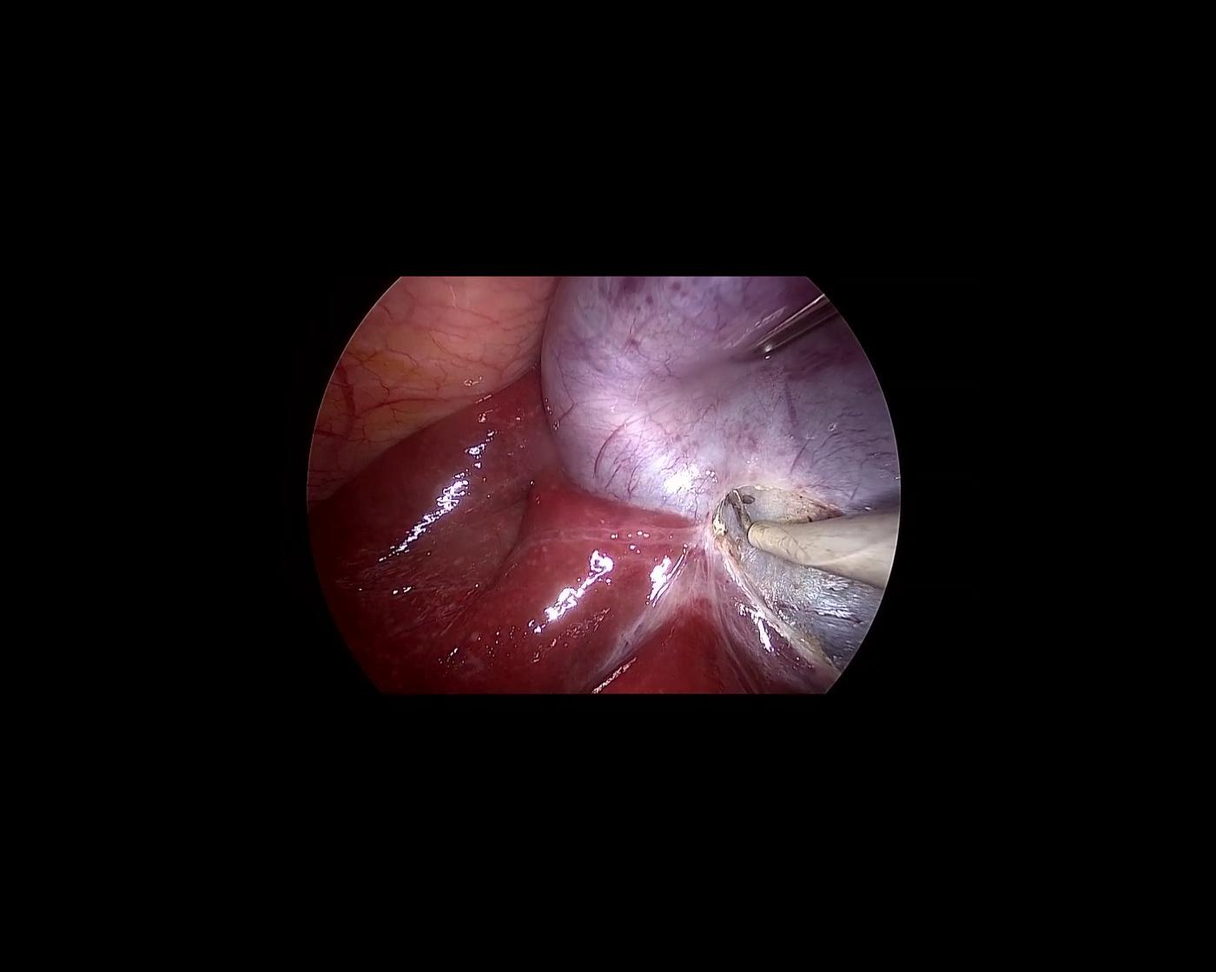Cautery: (709, 482, 899, 592)
Forceps: (721, 294, 840, 383)
Gallbladder: (539, 279, 898, 667)
Liver: (265, 327, 840, 909)
